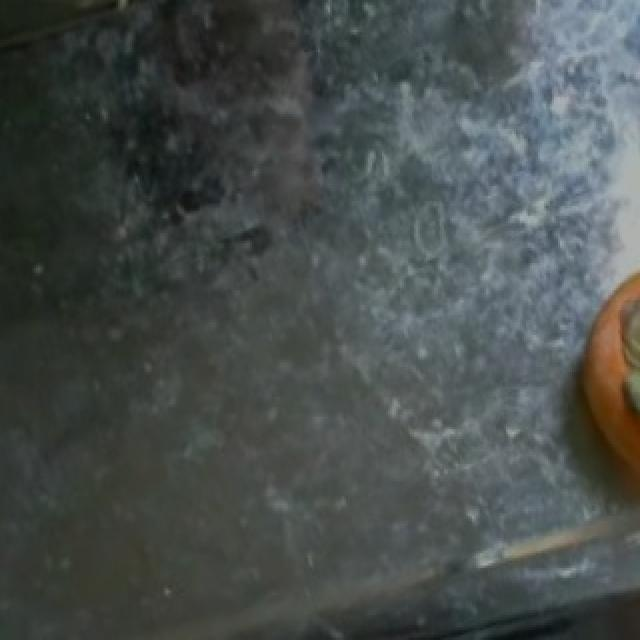Fruit: (554, 236, 640, 461)
